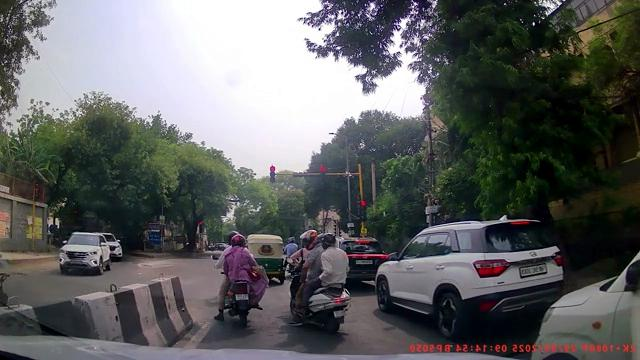passenger_with_helmet: (289, 229, 352, 333), (215, 230, 267, 327)
passenger_without_helmet: (289, 229, 352, 333)
